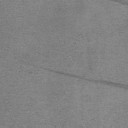finishing roll printing: (36, 66, 128, 90)
